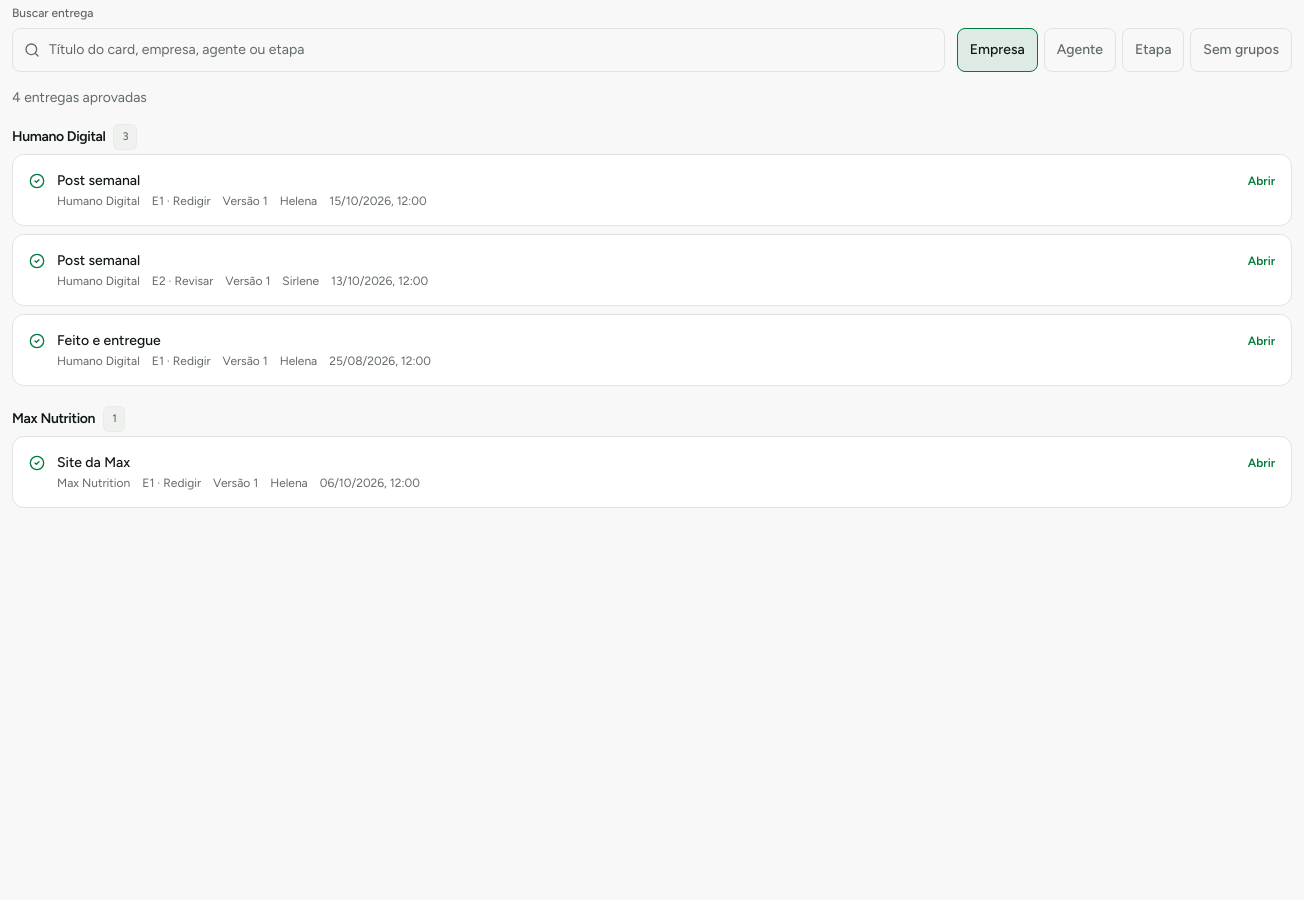
Test: trata detalhe sem a entrega pedida como erro, não como texto vazio
The width and height of the screenshot is (1304, 900).
Click the button "Post semanal".
click(99, 180)  # box top-left (13, 155), bottom-right (1291, 225)
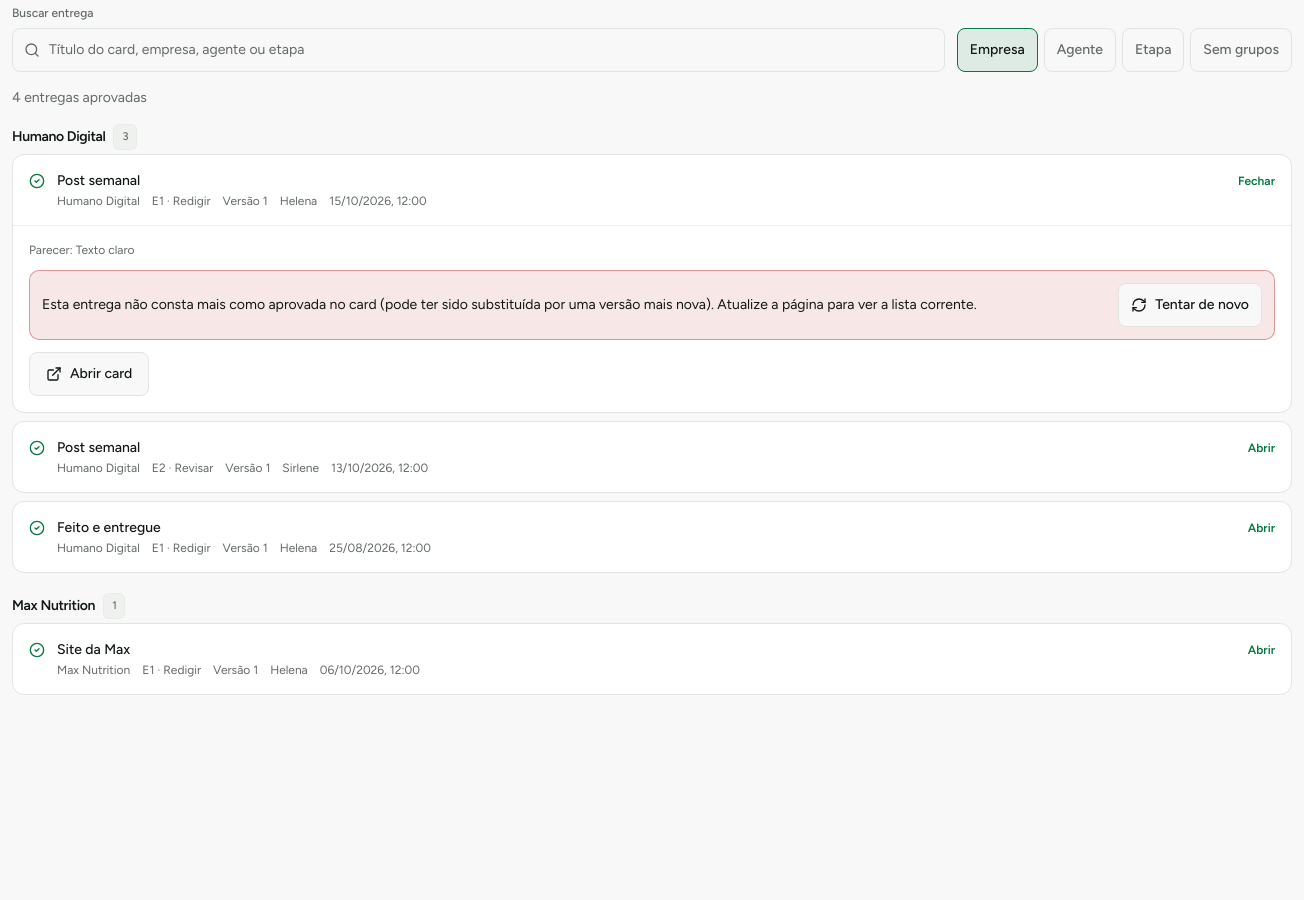
Result: the text "não consta mais como aprovada no card" is shown at top-left (42, 296), bottom-right (977, 313)
